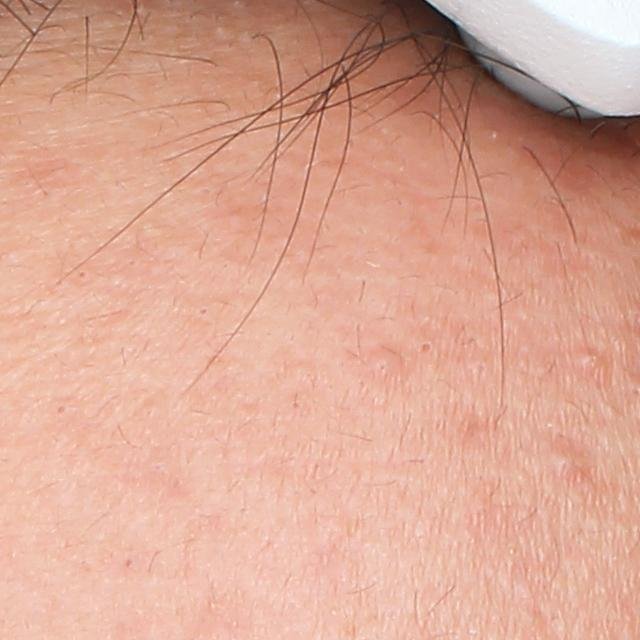comedo: (54, 399, 68, 419)
papule: (550, 448, 583, 482)
